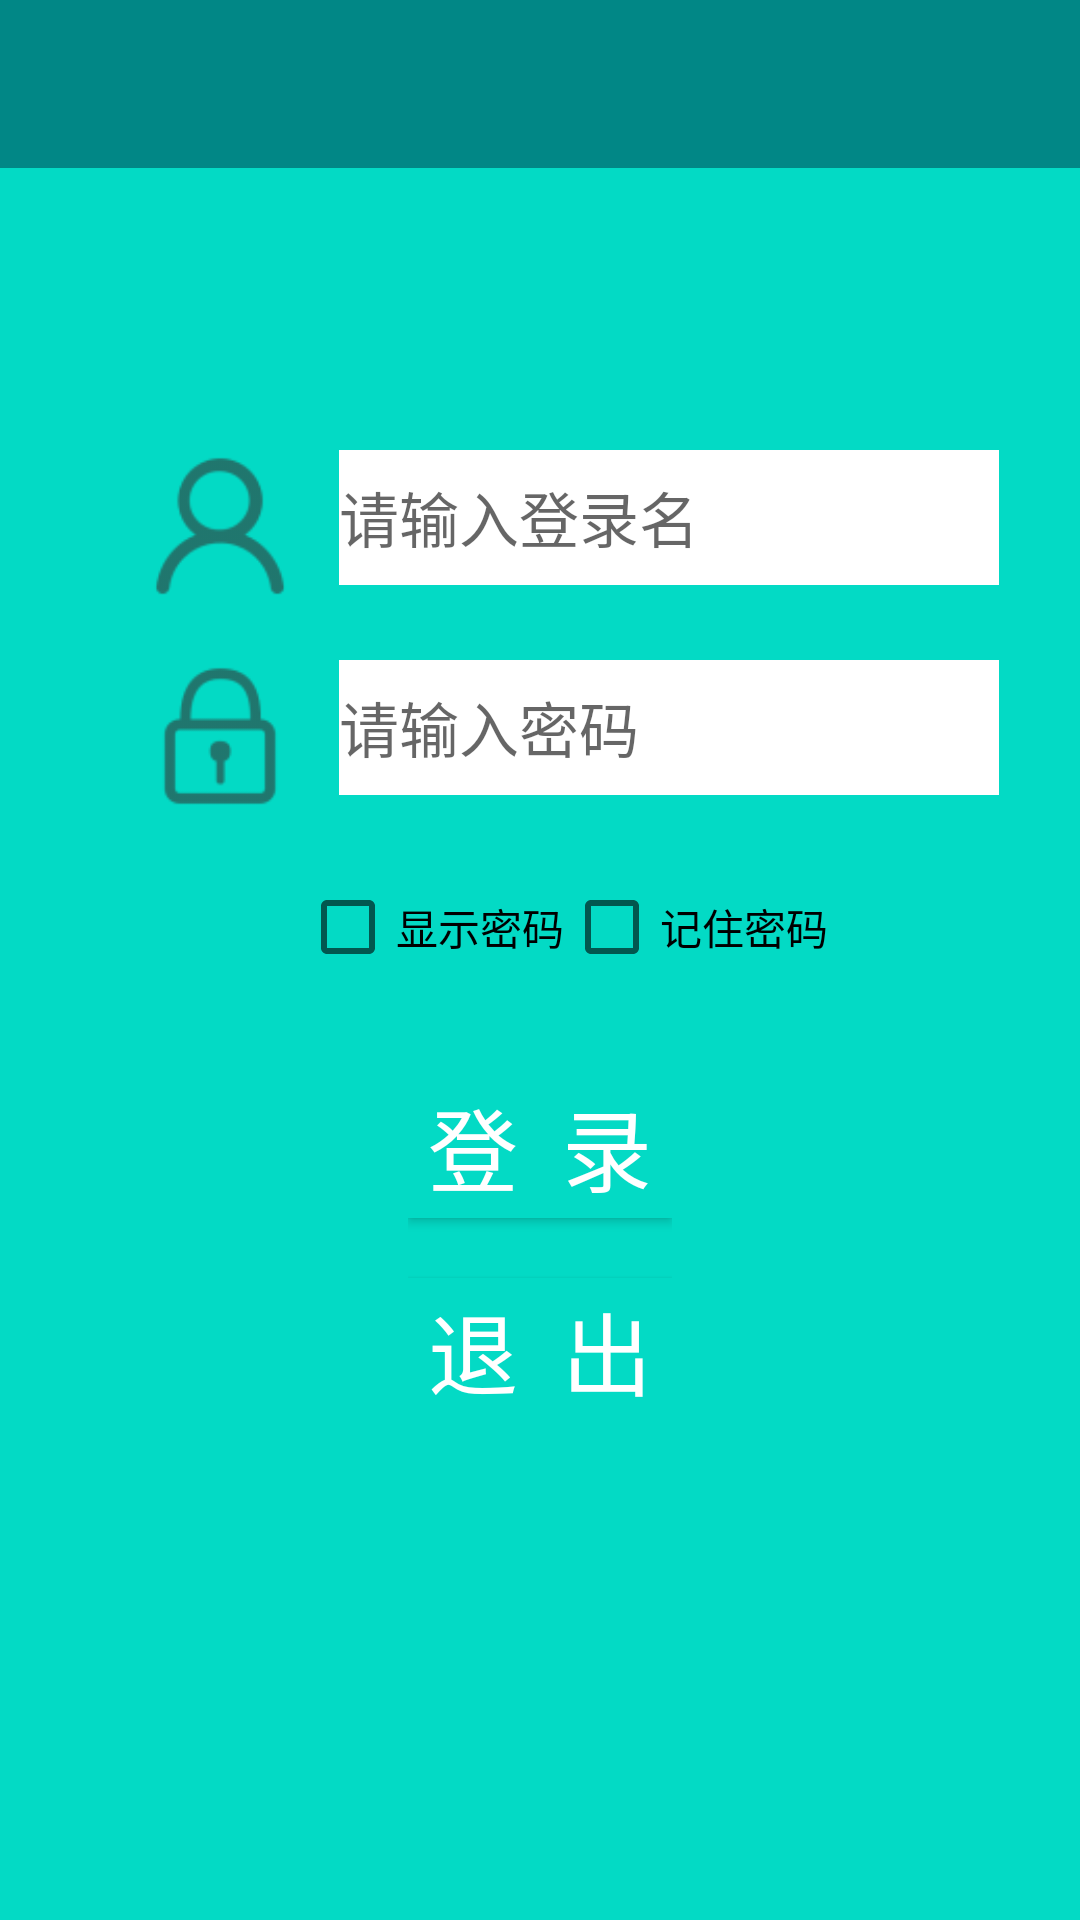

Icon bounding boxes for this 1080x1920 phone screenshot, format [x1, y1, x2, y2]:
pass: [164, 668, 276, 804]
user: [156, 458, 284, 594]
